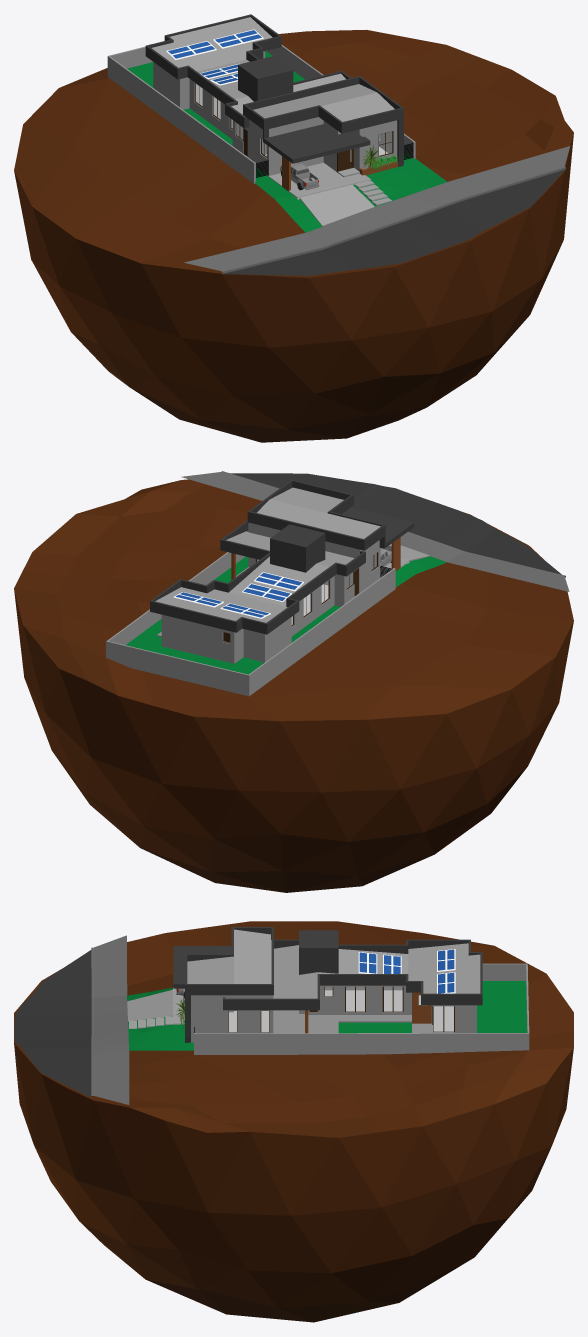
Rendered from Marco-c.glb.
3 views of the same model, one above another, from view 1: azimuth 30°, elevation 25°; view 2: azimuth 150°, elevation 25°; view 3: azimuth 270°, elevation 25° (orthographic).
Parts seen in each view (by area): view 1: Icosphere, calcada, laje.teto.001, parede.terreo, Plane.001, terreno.modificado, Plane, platibanda.terreo, laje.garagem, Cube, piso.garagem.001, piso.garagem.002 (+2 smaller); view 2: Icosphere, calcada, Plane.001, laje.teto.001, parede.terreo, platibanda.terreo, Plane, terreno.modificado, Cube, painel, laje.garagem, painel.001; view 3: Icosphere, calcada, laje.teto.001, Plane.001, parede.terreo, terreno.modificado, platibanda.terreo, Plane, piso.terreo.001, piso.terreo, Cube, piso.garagem.001 (+6 smaller).
Part boxes in pixels (x1=…): Icosphere: x1=14, y1=29, x2=573, y2=442; calcada: x1=184, y1=146, x2=570, y2=275; laje.teto.001: x1=152, y1=17, x2=394, y2=121; parede.terreo: x1=153, y1=50, x2=397, y2=175; Plane.001: x1=107, y1=45, x2=415, y2=183; terreno.modificado: x1=127, y1=51, x2=447, y2=232; Plane: x1=243, y1=71, x2=403, y2=166; platibanda.terreo: x1=145, y1=14, x2=281, y2=128; laje.garagem: x1=263, y1=124, x2=370, y2=163; Cube: x1=238, y1=56, x2=293, y2=101; piso.garagem.001: x1=299, y1=184, x2=374, y2=226; piso.garagem.002: x1=268, y1=162, x2=371, y2=197; Icosphere: x1=14, y1=479, x2=573, y2=892; calcada: x1=181, y1=471, x2=569, y2=591; Plane.001: x1=106, y1=552, x2=395, y2=696; laje.teto.001: x1=155, y1=487, x2=380, y2=622; parede.terreo: x1=161, y1=522, x2=380, y2=663; platibanda.terreo: x1=150, y1=550, x2=365, y2=634; Plane: x1=220, y1=479, x2=385, y2=559; terreno.modificado: x1=126, y1=556, x2=446, y2=674; Cube: x1=270, y1=524, x2=325, y2=572; painel: x1=242, y1=572, x2=303, y2=601; laje.garagem: x1=342, y1=507, x2=414, y2=548; painel.001: x1=173, y1=592, x2=270, y2=618; Icosphere: x1=14, y1=921, x2=573, y2=1322; calcada: x1=14, y1=935, x2=129, y2=1104; laje.teto.001: x1=187, y1=929, x2=480, y2=998; Plane.001: x1=194, y1=963, x2=529, y2=1054; parede.terreo: x1=191, y1=940, x2=476, y2=1042; terreno.modificado: x1=127, y1=981, x2=527, y2=1050; platibanda.terreo: x1=271, y1=939, x2=482, y2=1005; Plane: x1=185, y1=927, x2=319, y2=1042; piso.terreo.001: x1=273, y1=1010, x2=431, y2=1033; piso.terreo: x1=228, y1=990, x2=453, y2=1031; Cube: x1=299, y1=930, x2=338, y2=974; piso.garagem.001: x1=127, y1=989, x2=172, y2=1021.
Bounding box in the file's own units: 48.16 × 33.18 × 48.16.
